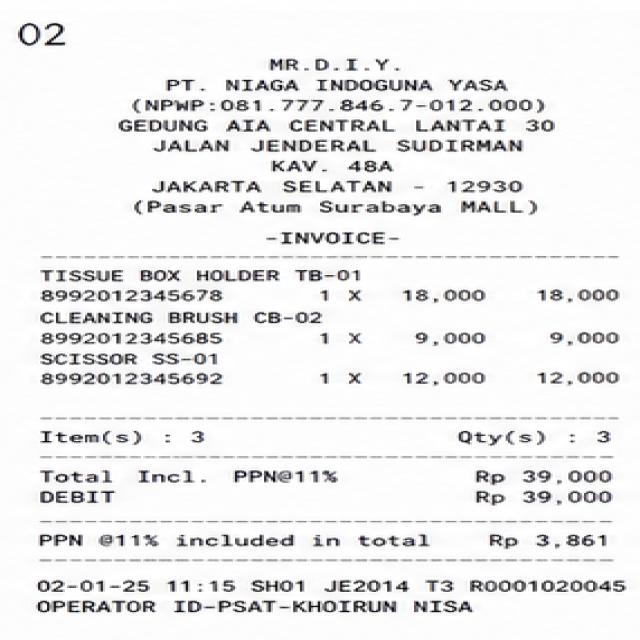date: (34, 576, 245, 600)
store: (255, 55, 401, 75)
total: (43, 465, 635, 485)
